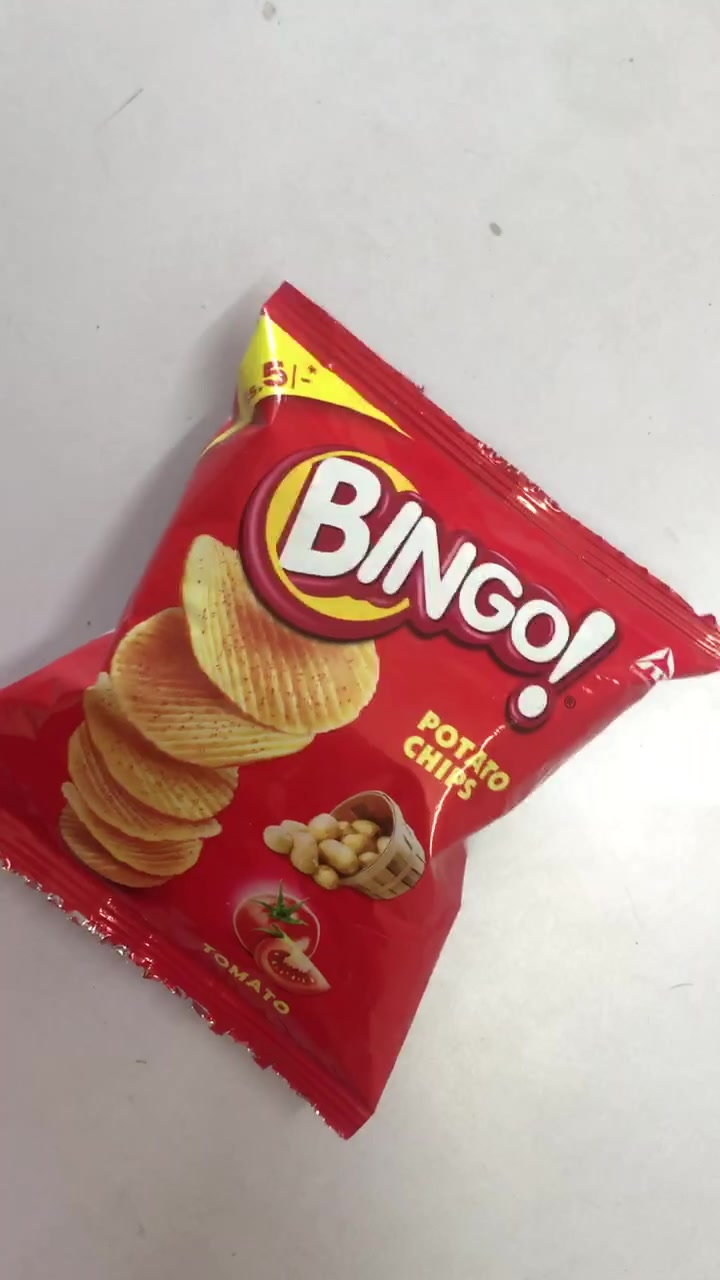Bingo: (5, 288, 706, 1145)
